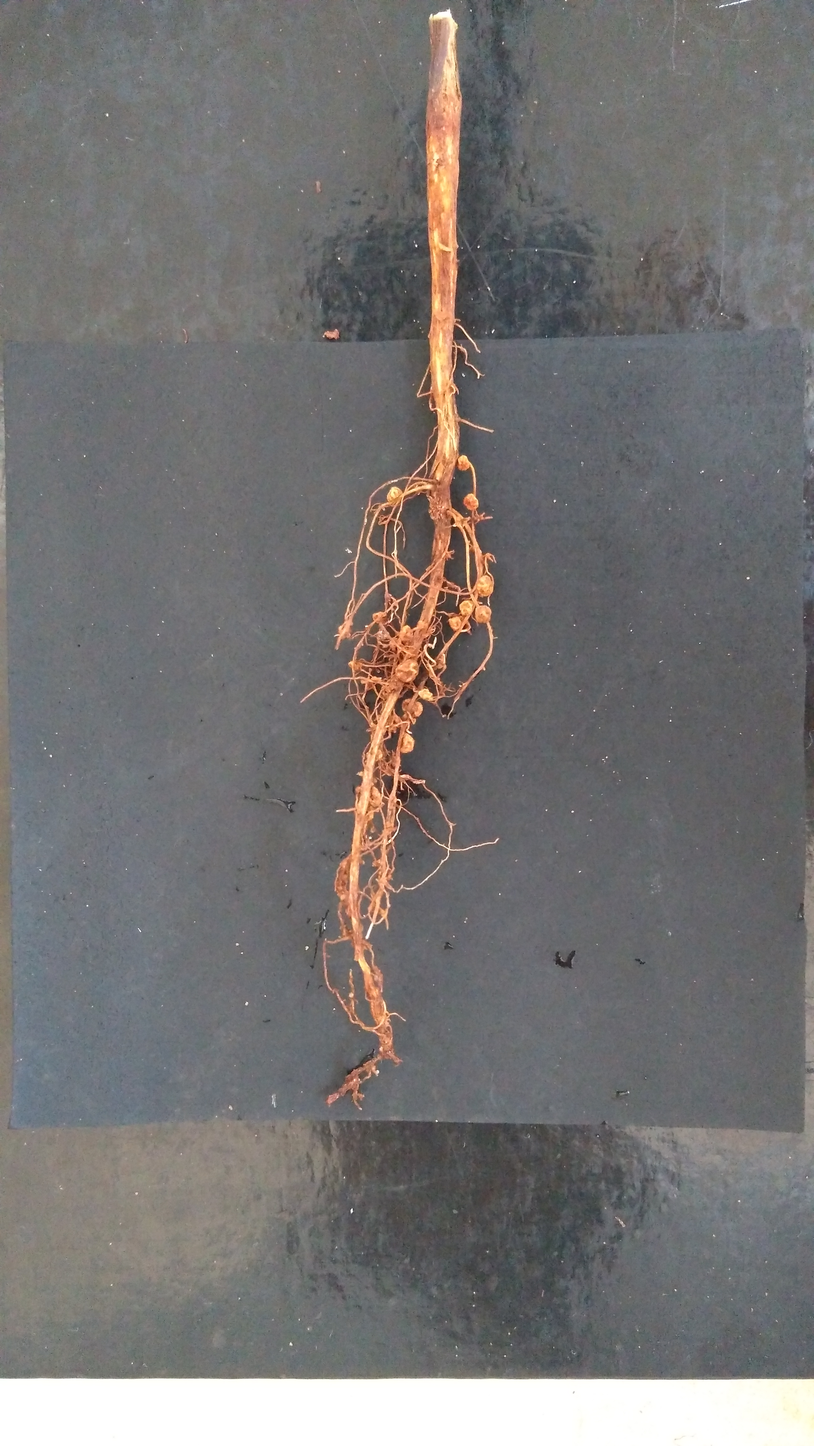nodule: (355, 786, 381, 819), (395, 660, 419, 682), (401, 699, 423, 717), (385, 711, 403, 733), (477, 575, 493, 596), (400, 731, 414, 753), (428, 498, 441, 520), (475, 605, 491, 622), (389, 672, 403, 691), (387, 487, 403, 503), (463, 493, 478, 510), (459, 600, 475, 615), (417, 620, 430, 638), (366, 749, 387, 760), (418, 688, 434, 702), (339, 621, 351, 639), (400, 625, 413, 641), (448, 616, 461, 630), (458, 455, 469, 471), (372, 612, 388, 623), (376, 629, 390, 641), (433, 656, 444, 671), (388, 637, 401, 647), (348, 660, 361, 670), (390, 755, 400, 766)
